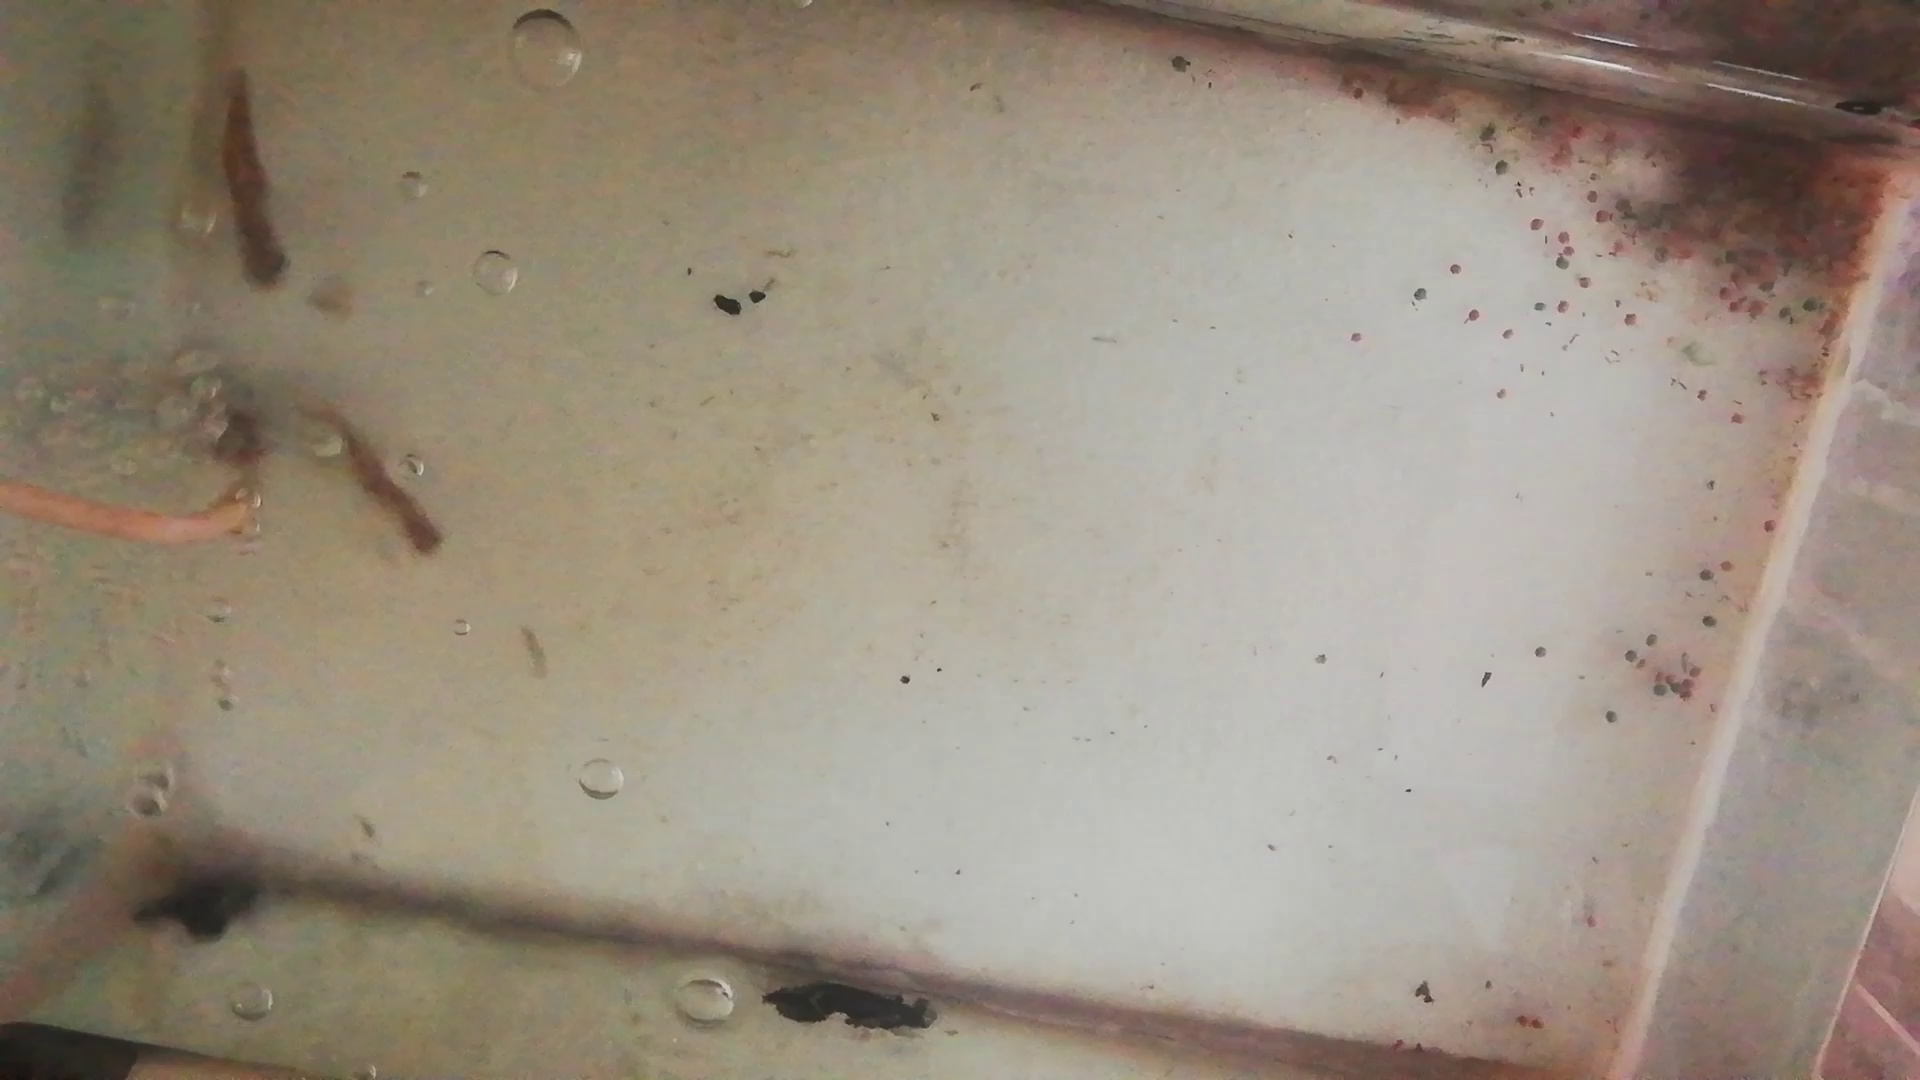fish: (298, 389, 454, 556), (214, 65, 293, 287)
